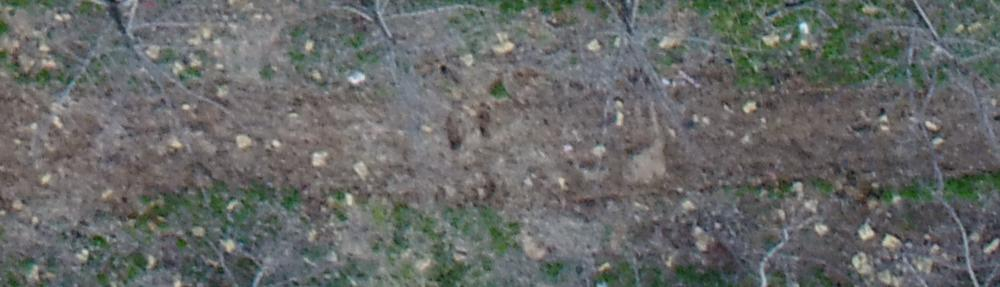apple: (541, 10, 764, 145), (10, 10, 266, 120), (834, 10, 990, 166)
